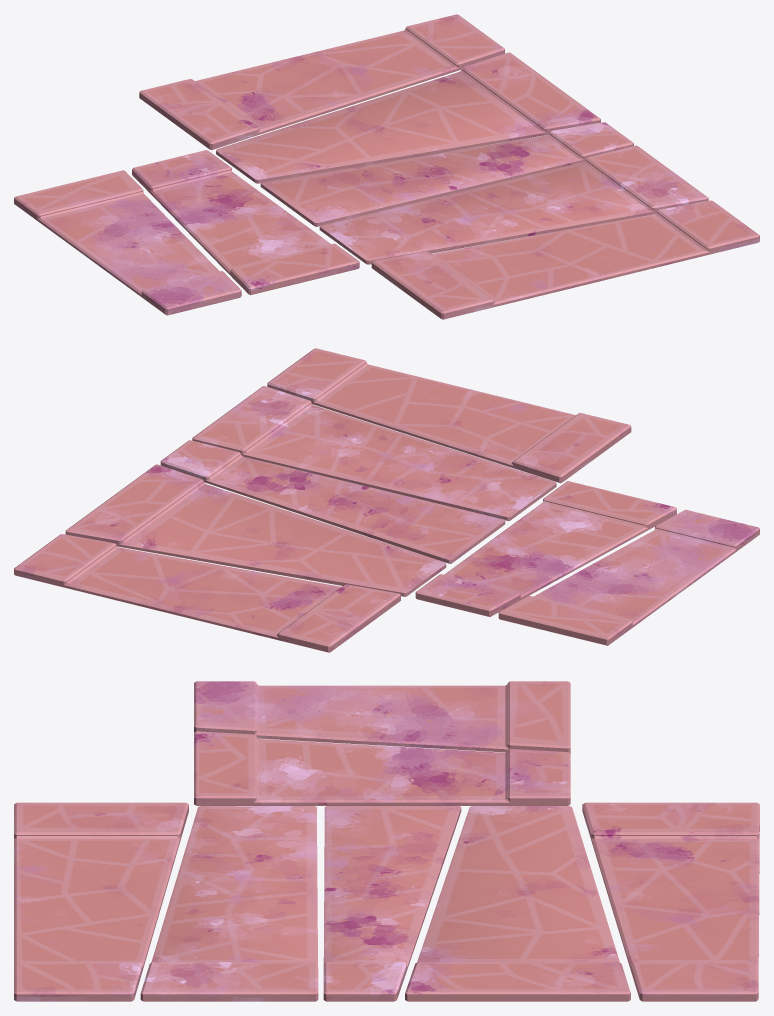
Rendered from baldosas entrada.fbx.
3 views of the same model, one above another, from view 1: azimuth 30°, elevation 25°; view 2: azimuth 150°, elevation 25°; view 3: azimuth 270°, elevation 25° (orthographic). The views are drawn at different scales.
Parts seen in each view (by area): view 1: Cube.105; view 2: Cube.105; view 3: Cube.105.
Boxes of the visible parts, bbox=[...] form: Cube.105: bbox=[14, 14, 759, 319]; Cube.105: bbox=[14, 348, 759, 652]; Cube.105: bbox=[14, 681, 759, 1001].
Bounding box in the file's own units: 386 × 5.79 × 390.
